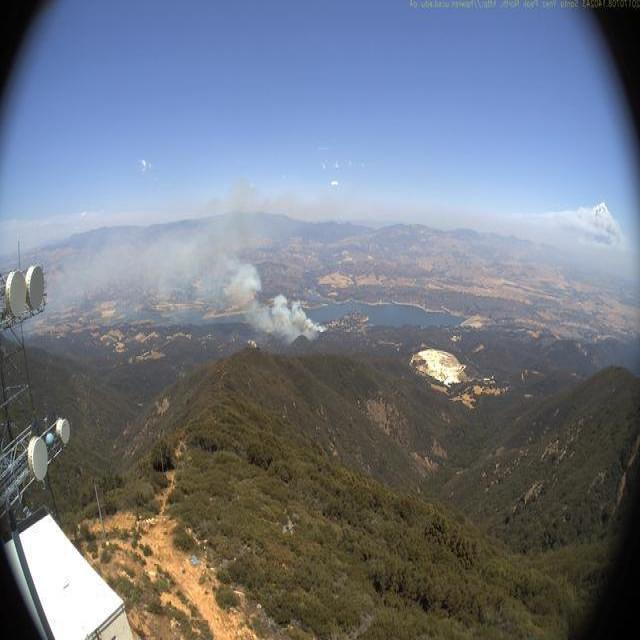Smoke: (58, 221, 332, 343)
